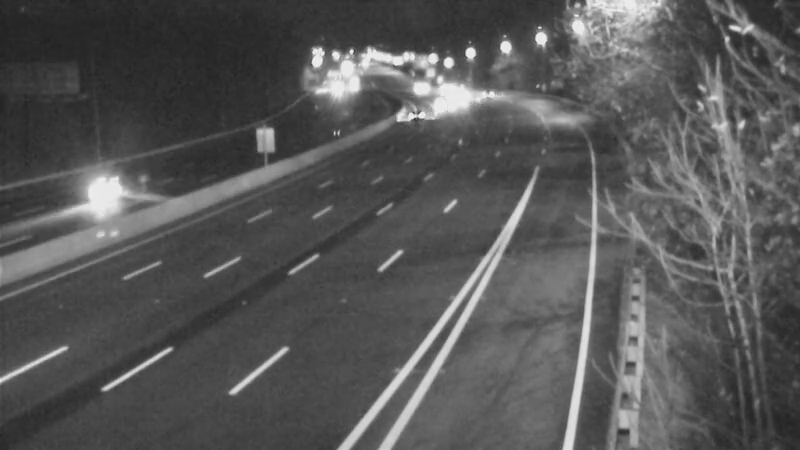vehicle: (63, 150, 143, 230), (390, 62, 440, 112), (419, 63, 469, 113), (457, 69, 507, 119), (418, 77, 468, 127), (390, 89, 440, 139)
